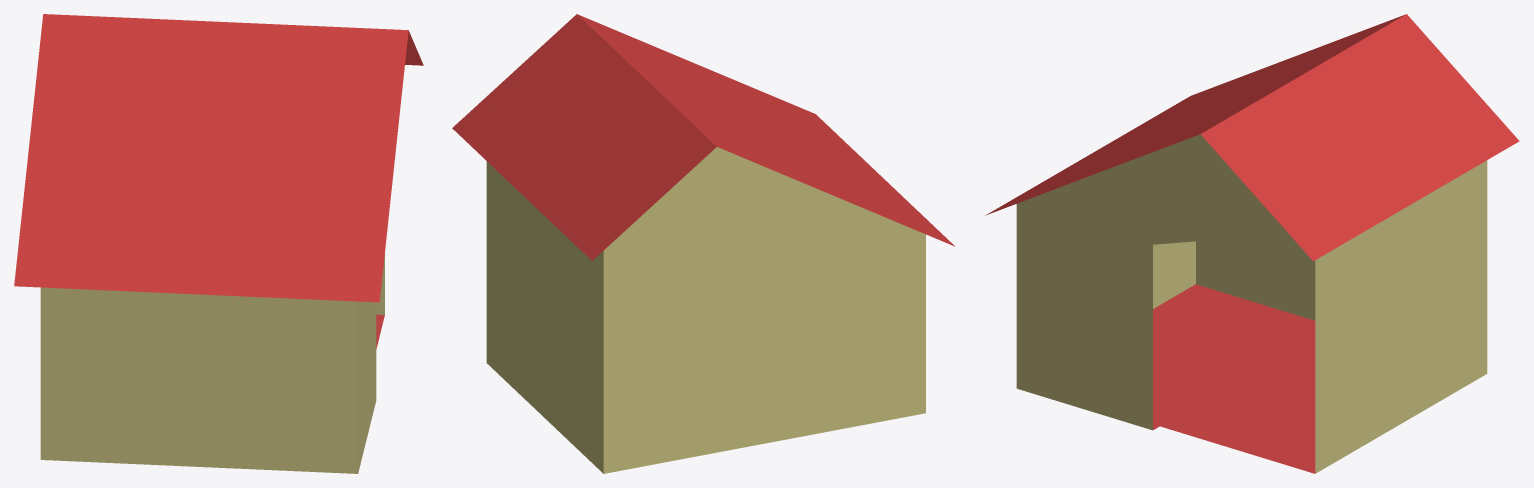
The picture shows the model from 3 angles, left to right: view 1: azimuth 30°, elevation 25°; view 2: azimuth 150°, elevation 25°; view 3: azimuth 270°, elevation 25°; orthographic projection. The views are drawn at different scales.
Bounding box in the file's own units: 16.99 × 17.39 × 11.57.
